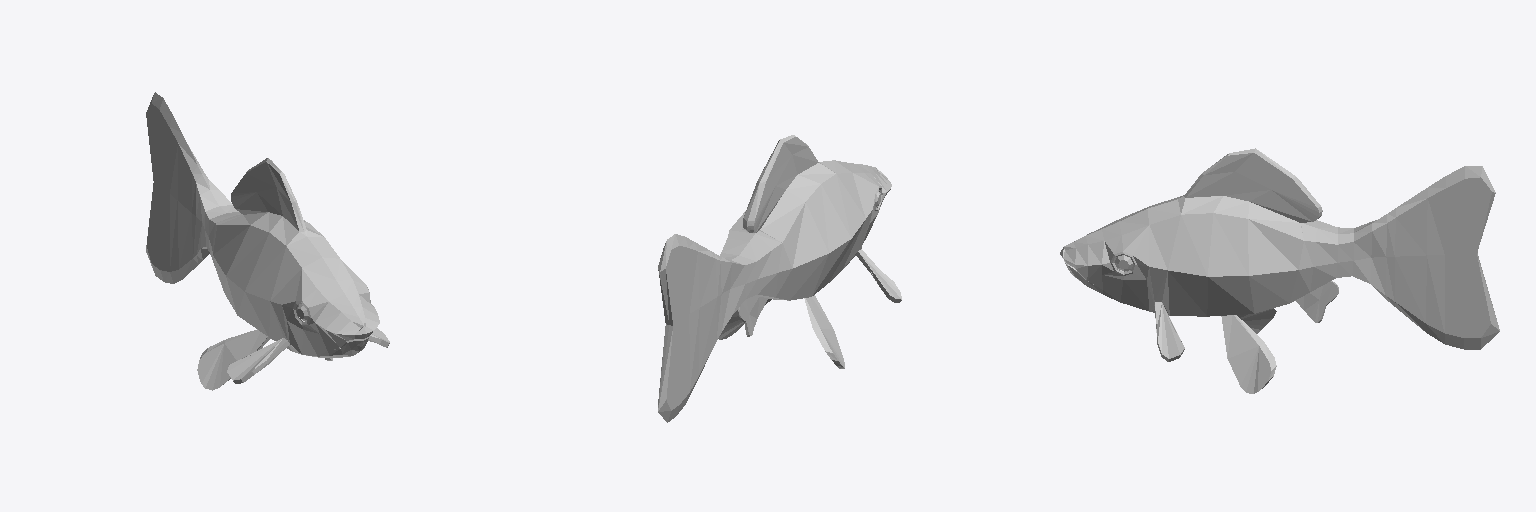
File: goldfish.obj
3 renders of one model, left to right at view 1: azimuth 30°, elevation 25°; view 2: azimuth 150°, elevation 25°; view 3: azimuth 270°, elevation 25°, orthographic.
Parts seen in each view (by area): view 1: Cube; view 2: Cube; view 3: Cube.
Part boxes in pixels (bbox=[...]): Cube: bbox=[146, 92, 389, 390]; Cube: bbox=[658, 135, 901, 422]; Cube: bbox=[1060, 148, 1499, 393].
Size of the model in its own units: 1.96 by 2.56 by 4.76.